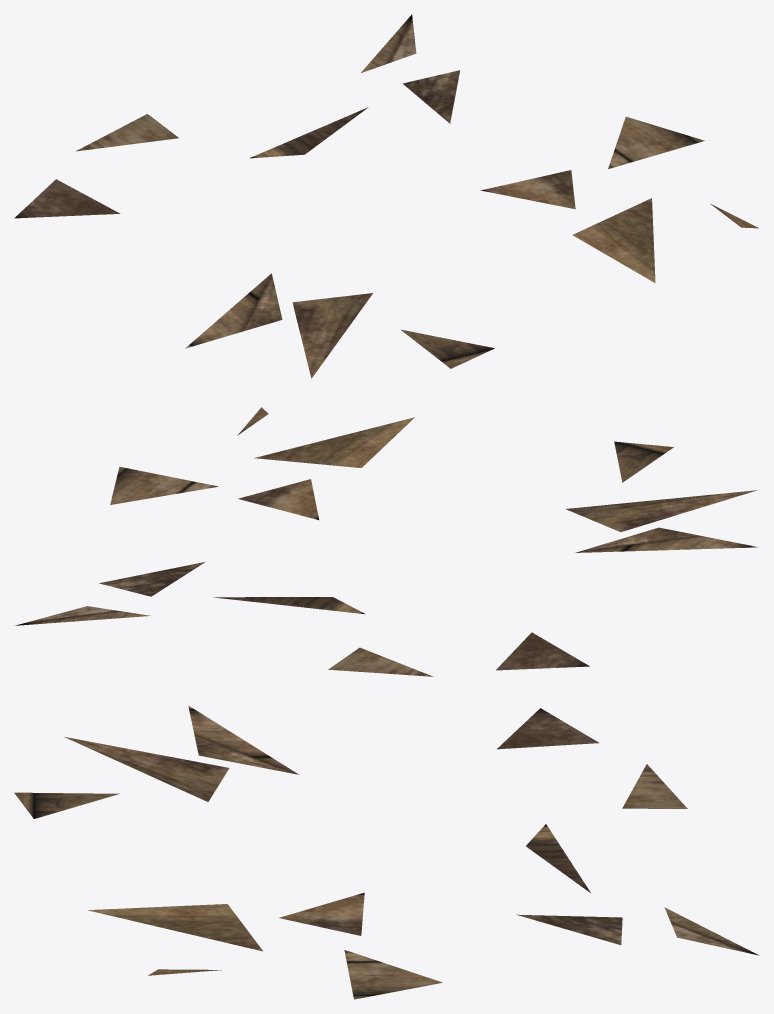
The model's file is woodchips.fbx.
3 views of the same model, one above another, from view 1: azimuth 30°, elevation 25°; view 2: azimuth 150°, elevation 25°; view 3: azimuth 270°, elevation 25° (orthographic). The views are drawn at different scales.
Parts seen in each view (by area): view 1: pPlane1; view 2: pPlane1; view 3: pPlane1.
Part boxes in pixels (x1=…): pPlane1: x1=14, y1=14, x2=758, y2=378; pPlane1: x1=14, y1=407, x2=758, y2=676; pPlane1: x1=14, y1=705, x2=759, y2=999.
Size of the model in its own units: 10.55 by 2e-15 by 11.3.
Materials: 1 (1 with a texture image).
